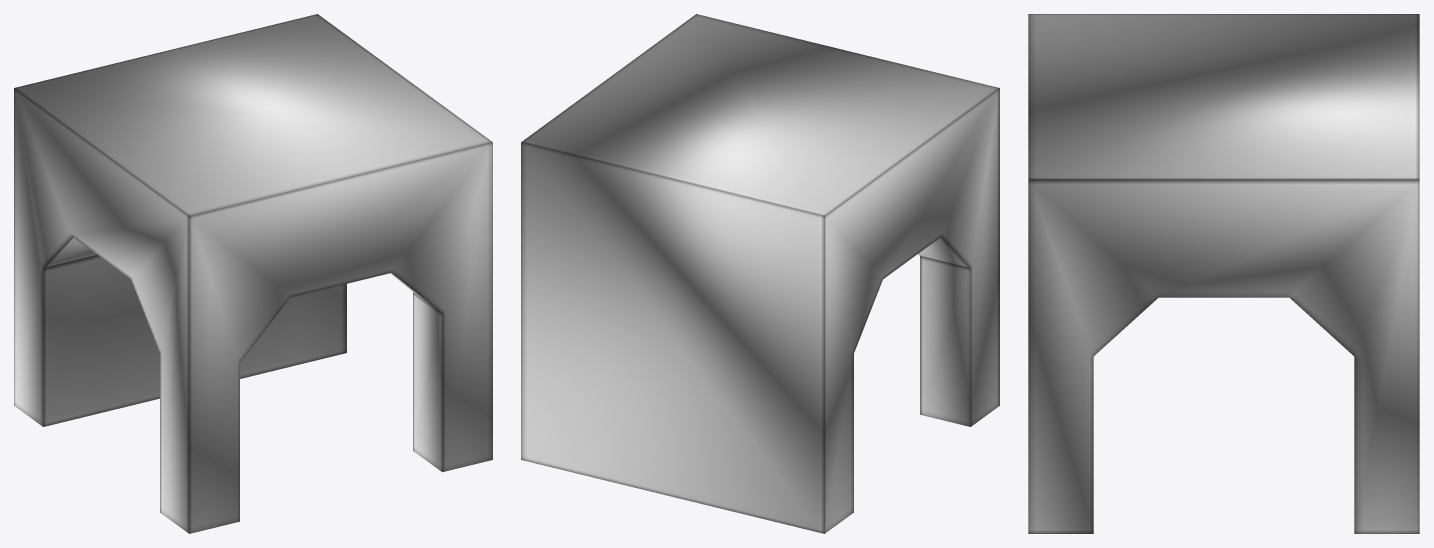
Rendered from Tunnel-02.fbx.
3 renders of one model, left to right at view 1: azimuth 30°, elevation 25°; view 2: azimuth 150°, elevation 25°; view 3: azimuth 270°, elevation 25°, orthographic. The views are drawn at different scales.
Visible parts, largest first — view 1: Tunnel-02; view 2: Tunnel-02; view 3: Tunnel-02.
Boxes of the visible parts, left/top/right/bottom form: Tunnel-02: left=14, top=14, right=492, bottom=533; Tunnel-02: left=521, top=14, right=999, bottom=533; Tunnel-02: left=1028, top=14, right=1419, bottom=533.
Bounding box in the file's own units: 1 × 1 × 1.
